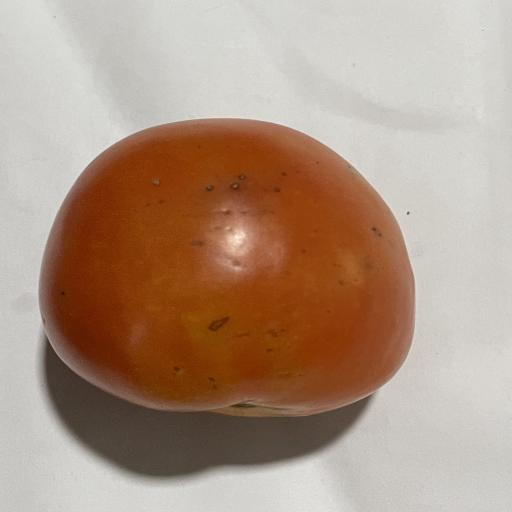ripe: (39, 119, 414, 417)
